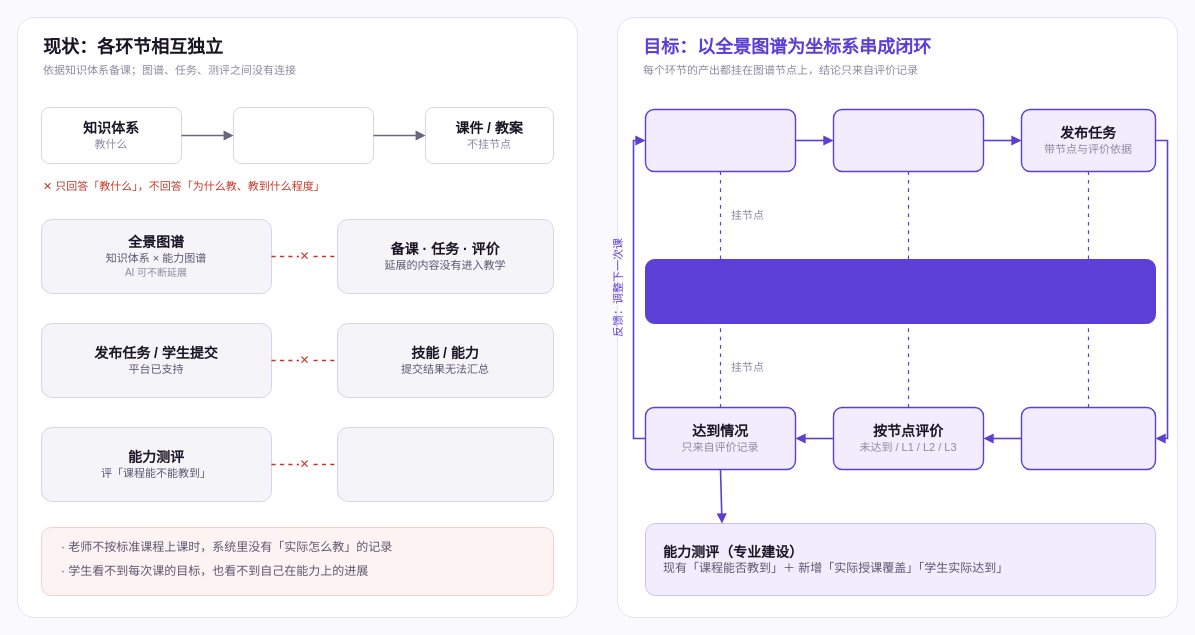
Image size: 1195x635. Some labels were removed from this diagram. The centre of each missing label's shape, as x and y in pixels:
"全景图谱（标准层 ＋ 教师个人层） 统一节点编号 · 能力 L1–L3 要求 · AI 延展进入个人层" goes at (x=900, y=291).
"学生提交 沿用平台任务" goes at (x=1088, y=438).
"实际教学与学习 实际教了什么、学会了什么" goes at (x=445, y=464).
"工作台备课 按内容生成" goes at (x=303, y=135).
"按课次备课 资源挂节点" goes at (x=908, y=140).
"授课计划 课次 = 节点 + 目标等级" goes at (x=720, y=140).
